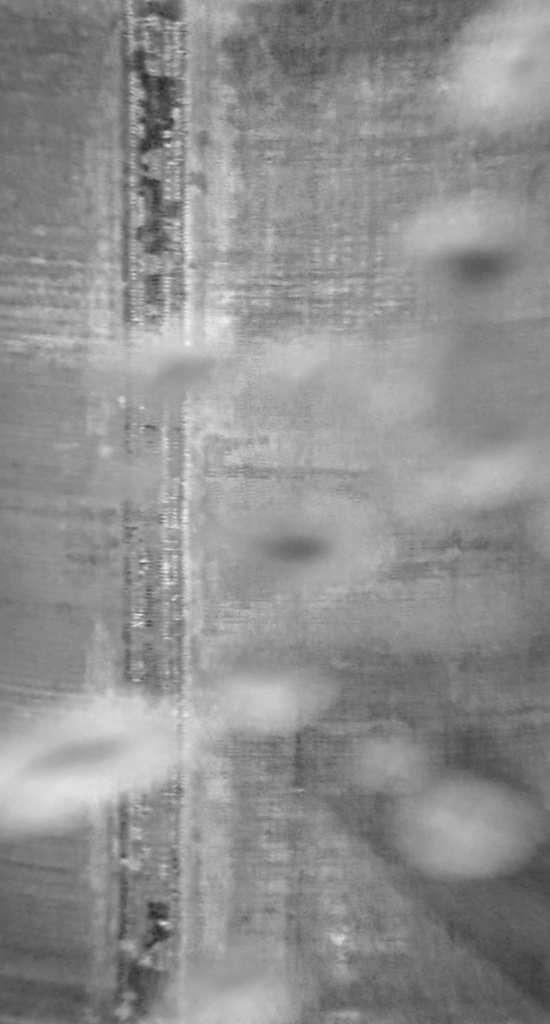splice: (108, 1, 205, 1022)
